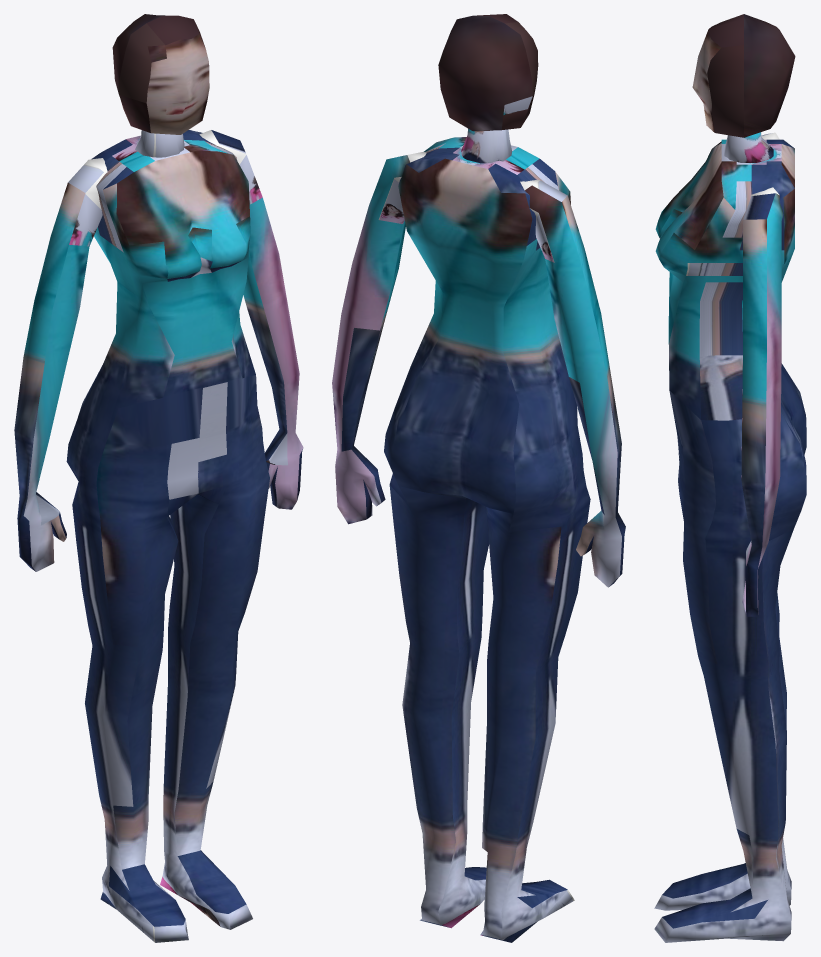
The model's file is GameModel4.glb.
3 views of the same model, side by side, from view 1: azimuth 30°, elevation 25°; view 2: azimuth 150°, elevation 25°; view 3: azimuth 270°, elevation 25° (orthographic).
Parts seen in each view (by area): view 1: Body; view 2: Body; view 3: Body.
Boxes of the visible parts, x1=… form: Body: x1=14, y1=14, x2=303, y2=942; Body: x1=332, y1=14, x2=625, y2=942; Body: x1=654, y1=14, x2=806, y2=942.
Size of the model in its own units: 1.28 by 3.85 by 0.5912.
Materials: 1 (1 with a texture image).
